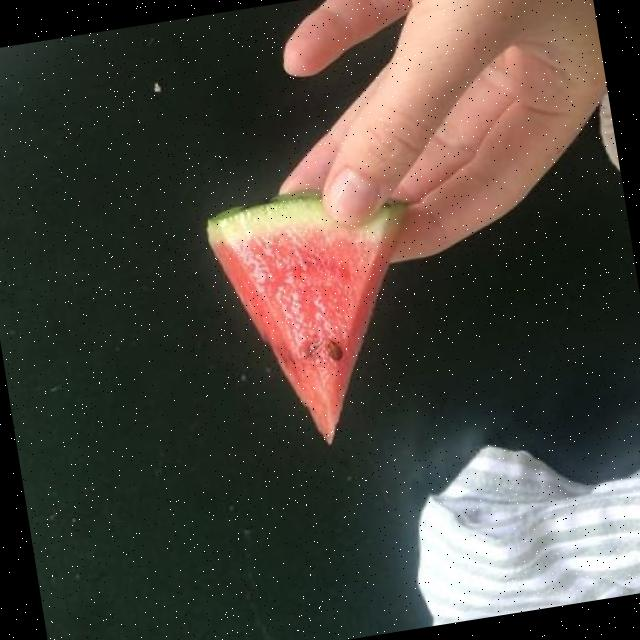watermelon-fresh: (213, 187, 401, 433)
